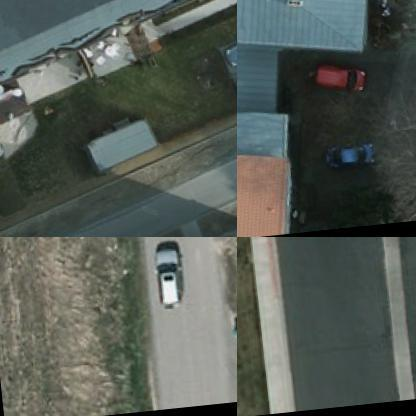car: (304, 59, 362, 93), (147, 250, 178, 312), (318, 140, 374, 172), (223, 36, 236, 73)
